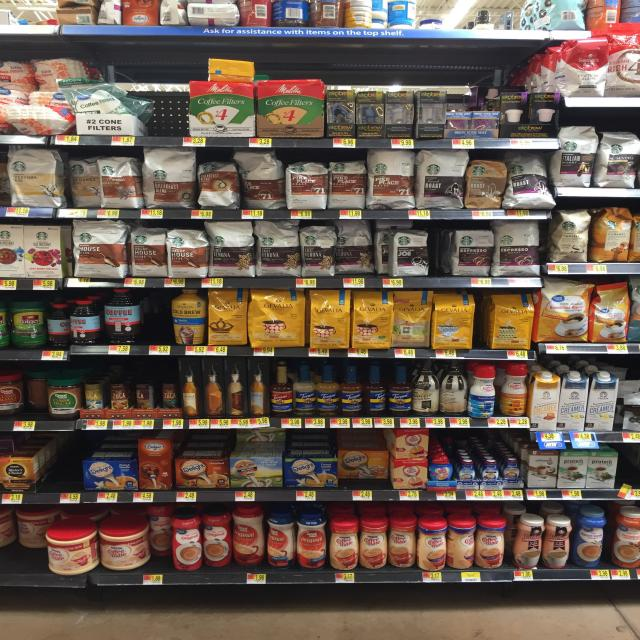100- O.O.S: (154, 91, 188, 146), (61, 436, 81, 504), (154, 290, 172, 354), (619, 448, 640, 499)
